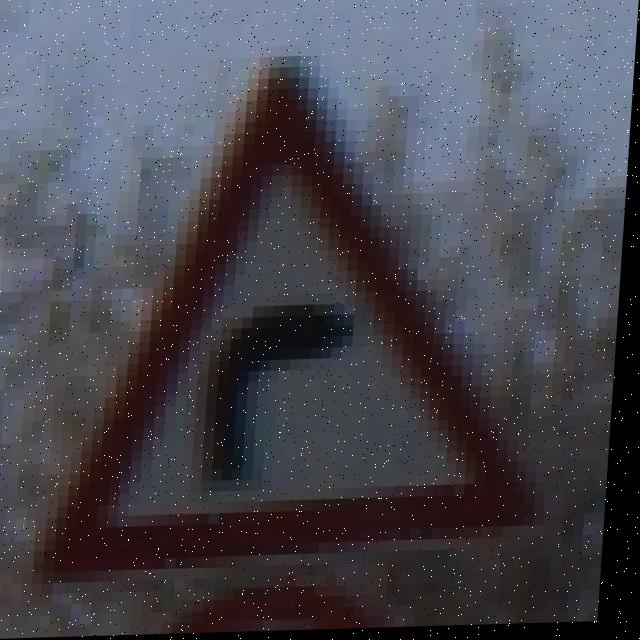right_turn: (41, 64, 551, 550)
